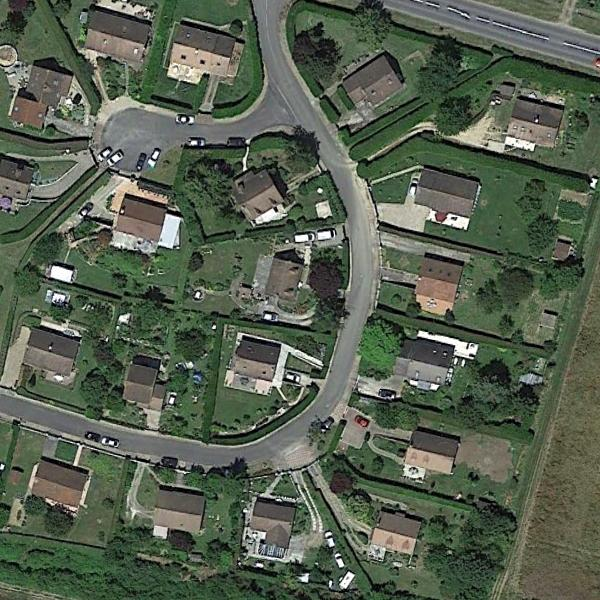Buildings: (408, 162, 484, 229), (2, 66, 80, 129), (165, 23, 239, 81), (85, 3, 150, 69), (245, 499, 298, 559), (508, 95, 563, 149), (398, 336, 459, 384), (337, 62, 401, 106), (150, 489, 210, 534), (24, 325, 77, 375), (415, 254, 455, 319), (35, 454, 88, 496), (234, 344, 280, 389), (115, 200, 165, 241), (405, 433, 459, 470), (234, 178, 279, 214), (124, 362, 160, 406), (373, 514, 413, 545), (0, 163, 30, 198), (273, 257, 293, 301)
